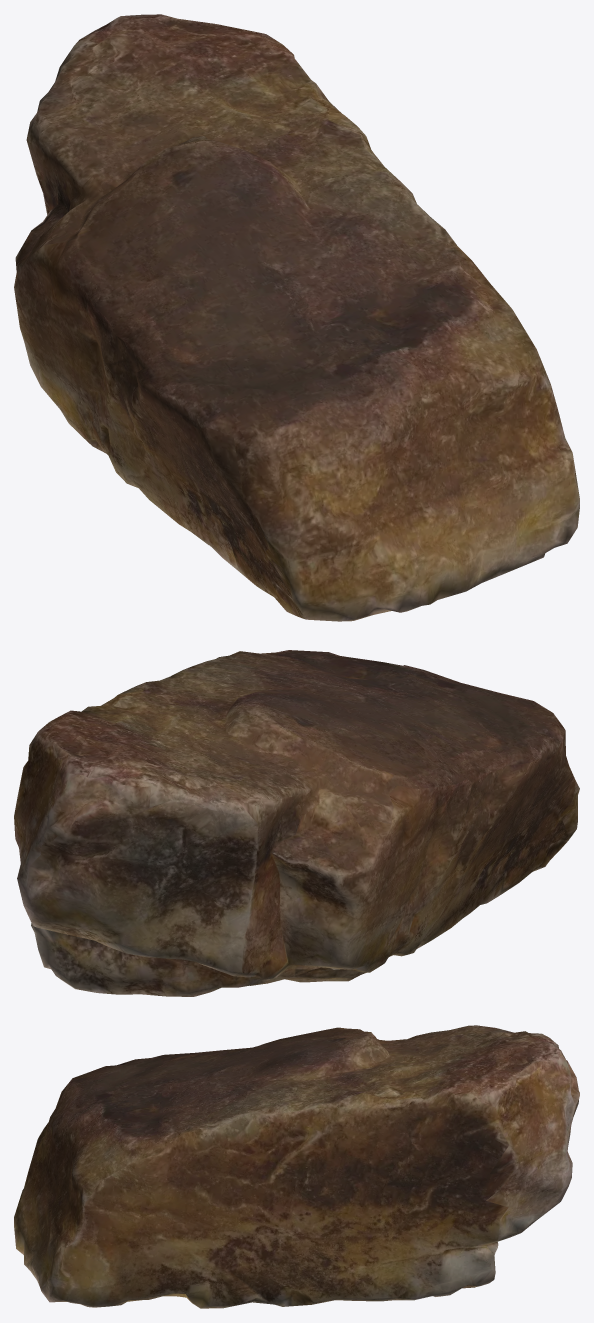
Rendered from rock_07.glb.
3 renders of one model, top to bottom at view 1: azimuth 30°, elevation 25°; view 2: azimuth 150°, elevation 25°; view 3: azimuth 270°, elevation 25°, orthographic. The views are drawn at different scales.
Parts seen in each view (by area): view 1: rock_07_lod0; view 2: rock_07_lod0; view 3: rock_07_lod0.
Part boxes in pixels (bbox=[...]): rock_07_lod0: bbox=[14, 14, 579, 621]; rock_07_lod0: bbox=[14, 650, 579, 996]; rock_07_lod0: bbox=[14, 1025, 579, 1308].
Size of what is drawn, in the model's own units: 0.1685 by 0.1437 by 0.3201.
1 material, 1 textured.
